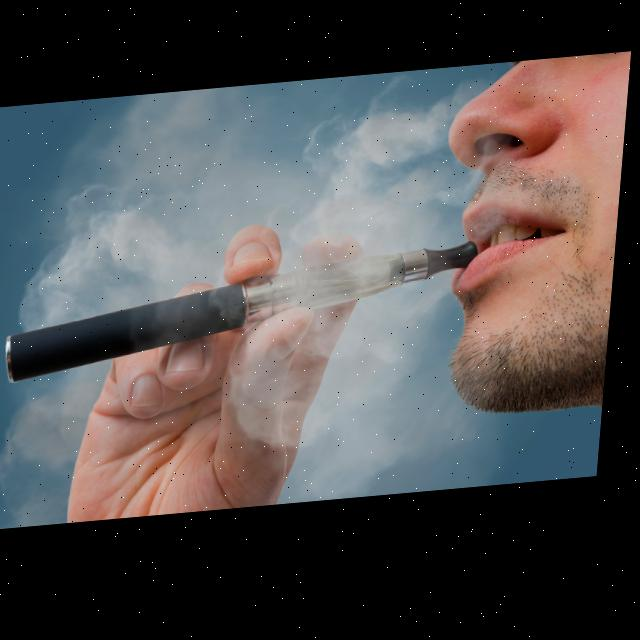vape: (9, 249, 484, 384)
